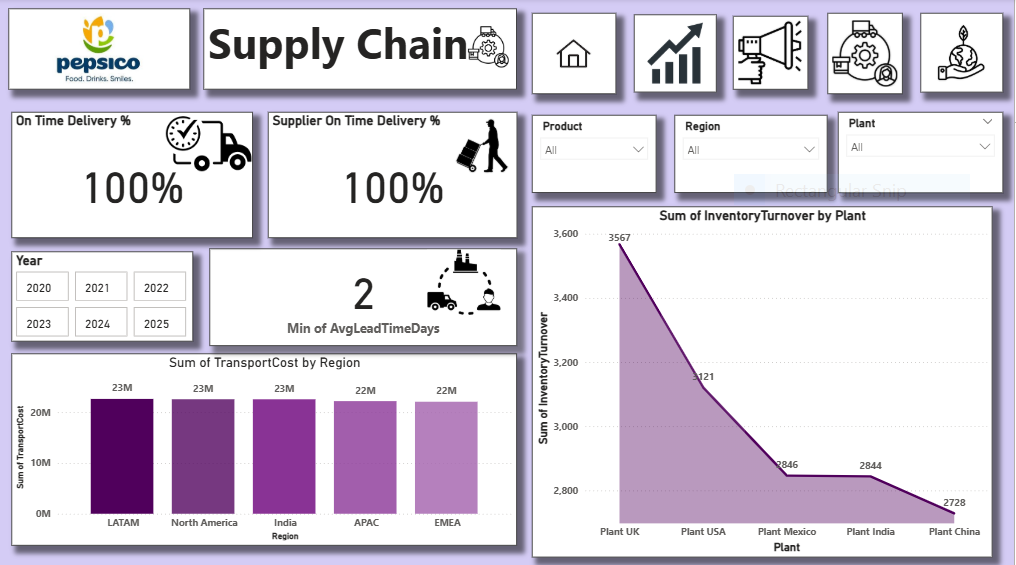

Layout of this report page (visuals, bound fields, positions):
{"tool":"powerbi","page":{"name":"Supply Chain","canvas":[1280,720],"ordinal":3},"visuals":[{"type":"group","id":"g1","title":"Group 5","box":[13.2,13.2,1252.9,691.7],"z":0,"group":"g6"},{"type":"image","box":[13.2,13.2,228.7,102],"z":0,"group":"g1"},{"type":"card","fields":{"Values":["Min(SupplyChainData.AvgLeadTimeDays)"]},"box":[266.4,315.6,387.4,122.8],"z":0,"group":"g2"},{"type":"textbox","box":[258.9,13.2,395,102],"z":1000,"group":"g4"},{"type":"image","box":[565,143.6,88.8,85],"z":1000,"group":"g6"},{"type":"image","box":[497,311.8,179.5,92.6],"z":1000,"group":"g2"},{"type":"columnChart","fields":{"Y":["Sum(SupplyChainData.TransportCost)"],"Category":["SupplyChainData.Region"]},"box":[17,447.8,636.9,241.9],"z":1000,"group":"g1"},{"type":"image","box":[672.7,18.9,105.8,102],"z":2000,"group":"g3"},{"type":"areaChart","fields":{"Category":["SupplyChainData.Plant"],"Y":["Sum(SupplyChainData.InventoryTurnover)"]},"box":[672.7,262.7,580.2,442.2],"z":2000,"group":"g1"},{"type":"image","box":[801.2,20.8,103.9,98.3],"z":3000,"group":"g3"},{"type":"advancedSlicerVisual","fields":{"Values":["SupplyChainData.Date.Variation.Date Hierarchy.Year"]},"box":[17,319.3,228.7,113.4],"z":3000,"group":"g1"},{"type":"image","box":[925.9,22.7,94.5,92.6],"z":4000,"group":"g3"},{"type":"slicer","fields":{"Values":["SupplyChainData.Region"]},"box":[852.3,147.4,192.8,98.3],"z":4000,"group":"g1"},{"type":"image","box":[1045,18.9,94.5,102],"z":5000,"group":"g3"},{"type":"slicer","fields":{"Values":["SupplyChainData.Plant"]},"box":[1058.2,143.6,207.9,102],"z":5000,"group":"g1"},{"type":"image","box":[1162.2,18.9,103.9,100.2],"z":6000,"group":"g3"},{"type":"slicer","fields":{"Values":["SupplyChainData.Product"]},"box":[672.7,147.4,156.9,98.3],"z":6000,"group":"g1"},{"type":"card","title":"Supplier On Time Delivery %","fields":{"Values":["Sum(SupplyChainData.SupplierOnTimePct)"]},"box":[340.1,143.6,313.7,158.7],"z":7000,"group":"g1"},{"type":"group","id":"g2","title":"Group 1","box":[266.4,311.8,410.1,126.6],"z":8000,"group":"g1"},{"type":"group","id":"g3","title":"Group 2","box":[672.7,18.9,593.4,102],"z":9000,"group":"g1"},{"type":"image","box":[582.1,30.2,71.8,62.4],"z":9000,"group":"g4"},{"type":"group","id":"g4","title":"Group 3","box":[258.9,13.2,395,102],"z":10000,"group":"g1"},{"type":"group","id":"g5","title":"Group 4","box":[17,143.6,309.9,158.7],"z":11000,"group":"g1"},{"type":"card","title":"On Time Delivery %","fields":{"Values":["Sum(SupplyChainData.OnTimeDeliveryPct)"]},"box":[17,143.6,304.3,158.7],"z":14000,"group":"g5"},{"type":"image","box":[204.1,143.6,122.8,79.4],"z":17000,"group":"g5"},{"type":"image","box":[565,143.6,88.8,81.3],"z":17001},{"type":"group","id":"g6","title":"Group 6","box":[13.2,13.2,1252.9,691.7],"z":17010}]}

Visuals, with their boxes in screenshot pixels (x1, y1, x2, y2), scaled from the page's 1280x720 canvas onto the 1016x565 screenshot:
"Group 5" group: bbox=[10, 10, 1005, 553]
image: bbox=[10, 10, 192, 90]
card - Min(SupplyChainData.AvgLeadTimeDays): bbox=[211, 248, 519, 344]
textbox: bbox=[206, 10, 519, 90]
image: bbox=[448, 113, 519, 179]
image: bbox=[394, 245, 537, 317]
columnChart - Sum(SupplyChainData.TransportCost) x SupplyChainData.Region: bbox=[13, 351, 519, 541]
image: bbox=[534, 15, 618, 95]
areaChart - SupplyChainData.Plant x Sum(SupplyChainData.InventoryTurnover): bbox=[534, 206, 994, 553]
image: bbox=[636, 16, 718, 93]
advancedSlicerVisual - SupplyChainData.Date.Variation.Date Hierarchy.Year: bbox=[13, 251, 195, 340]
image: bbox=[735, 18, 810, 90]
slicer - SupplyChainData.Region: bbox=[677, 116, 830, 193]
image: bbox=[829, 15, 904, 95]
slicer - SupplyChainData.Plant: bbox=[840, 113, 1005, 193]
image: bbox=[922, 15, 1005, 93]
slicer - SupplyChainData.Product: bbox=[534, 116, 658, 193]
"Supplier On Time Delivery %" card: bbox=[270, 113, 519, 237]
"Group 1" group: bbox=[211, 245, 537, 344]
"Group 2" group: bbox=[534, 15, 1005, 95]
image: bbox=[462, 24, 519, 73]
"Group 3" group: bbox=[206, 10, 519, 90]
"Group 4" group: bbox=[13, 113, 259, 237]
"On Time Delivery %" card: bbox=[13, 113, 255, 237]
image: bbox=[162, 113, 259, 175]
image: bbox=[448, 113, 519, 176]
"Group 6" group: bbox=[10, 10, 1005, 553]
